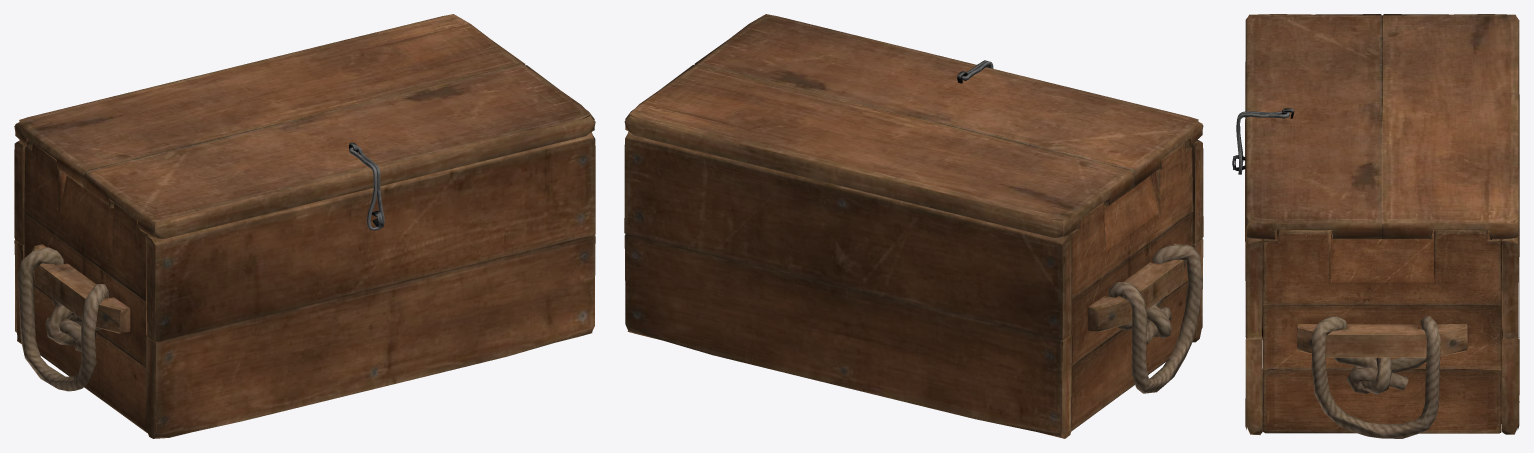
File: wooden_crate_01.glb
3 views of the same model, side by side, from view 1: azimuth 30°, elevation 25°; view 2: azimuth 150°, elevation 25°; view 3: azimuth 270°, elevation 25° (orthographic). The views are drawn at different scales.
Parts seen in each view (by area): view 1: wooden_crate_01, wooden_crate_01_lid, wooden_crate_01_latch; view 2: wooden_crate_01, wooden_crate_01_lid; view 3: wooden_crate_01_lid, wooden_crate_01, wooden_crate_01_latch.
Boxes of the visible parts, left/top/right/bottom form: wooden_crate_01: left=14, top=132, right=595, bottom=438; wooden_crate_01_lid: left=14, top=14, right=595, bottom=238; wooden_crate_01_latch: left=349, top=147, right=384, bottom=230; wooden_crate_01: left=624, top=131, right=1203, bottom=438; wooden_crate_01_lid: left=624, top=14, right=1203, bottom=237; wooden_crate_01_lid: left=1245, top=14, right=1519, bottom=239; wooden_crate_01: left=1232, top=62, right=1519, bottom=438; wooden_crate_01_latch: left=1236, top=111, right=1289, bottom=174.
Size of the model in its own units: 0.8247 by 0.3482 by 0.4078.
1 material, 1 textured.
